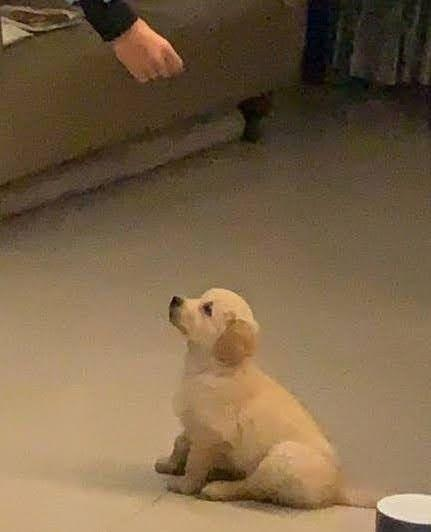puppy-dog: (154, 284, 383, 510)
